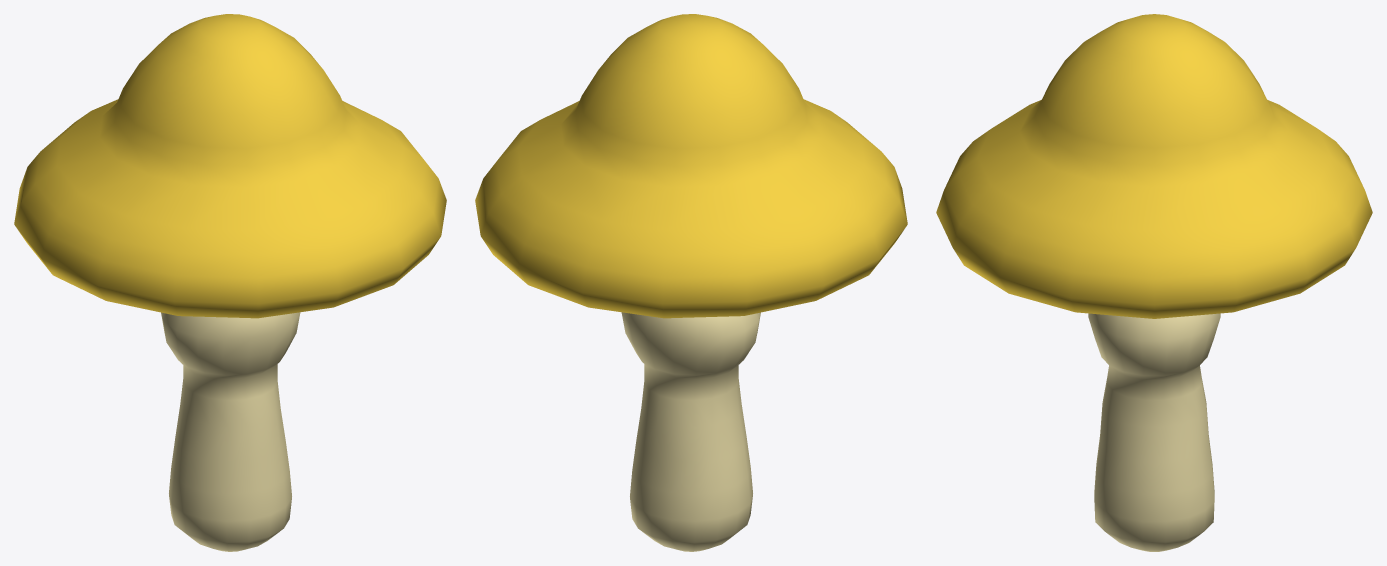
Rendered from mushroom color.fbx.
3 views of the same model, side by side, from view 1: azimuth 30°, elevation 25°; view 2: azimuth 150°, elevation 25°; view 3: azimuth 270°, elevation 25° (orthographic).
Visible parts, largest first — view 1: cap, stem; view 2: cap, stem; view 3: cap, stem.
Boxes of the visible parts, left/top/right/bottom form: cap: left=14, top=14, right=446, bottom=318; stem: left=161, top=312, right=300, bottom=551; cap: left=475, top=14, right=907, bottom=318; stem: left=621, top=312, right=760, bottom=551; cap: left=936, top=14, right=1372, bottom=318; stem: left=1088, top=313, right=1220, bottom=551.
Size of the model in its own units: 51 by 67.39 by 51.04.
